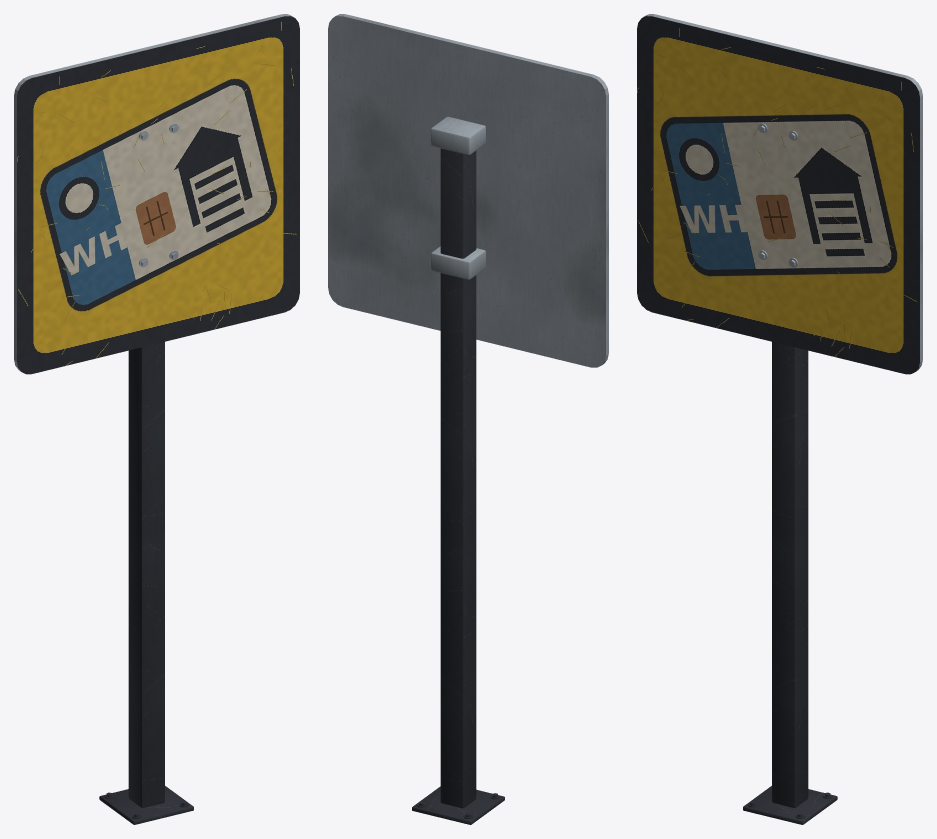
Rendered from warehouse_key_sign.glb.
The picture shows the model from 3 angles, left to right: view 1: azimuth 30°, elevation 25°; view 2: azimuth 150°, elevation 25°; view 3: azimuth 330°, elevation 25°; orthographic projection.
Visible parts, largest first — view 1: WarehouseKeySignMesh; view 2: WarehouseKeySignMesh; view 3: WarehouseKeySignMesh.
Part boxes in pixels (x1,y1,x2,y2): WarehouseKeySignMesh: (14, 14, 299, 824); WarehouseKeySignMesh: (328, 14, 608, 824); WarehouseKeySignMesh: (637, 14, 922, 824).
Bounding box in the file's own units: 0.56 × 1.45 × 0.12.
3 materials, 3 textured.
